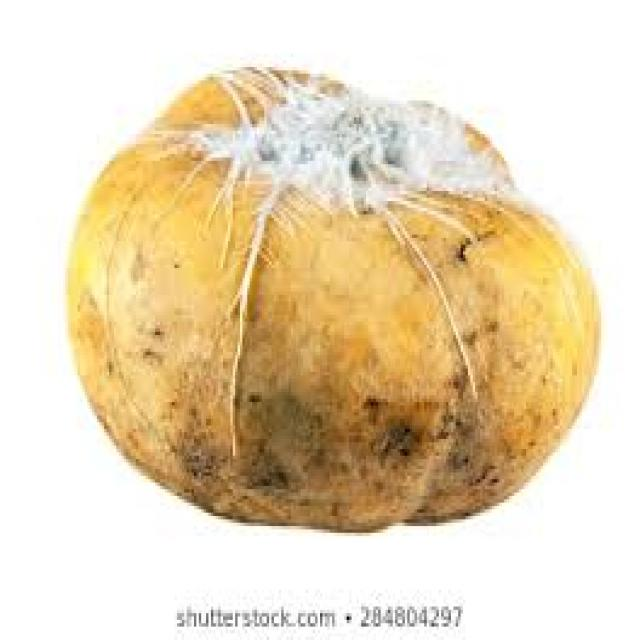organic waste: (68, 60, 599, 526)
